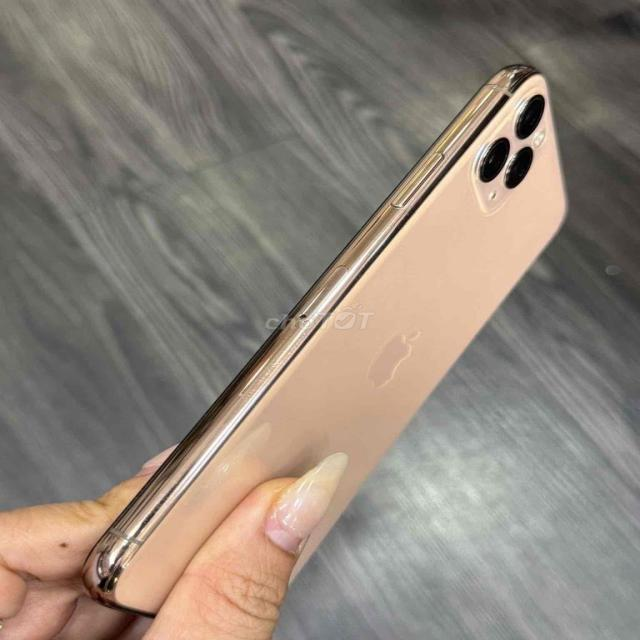gen_11: (25, 61, 567, 629)
